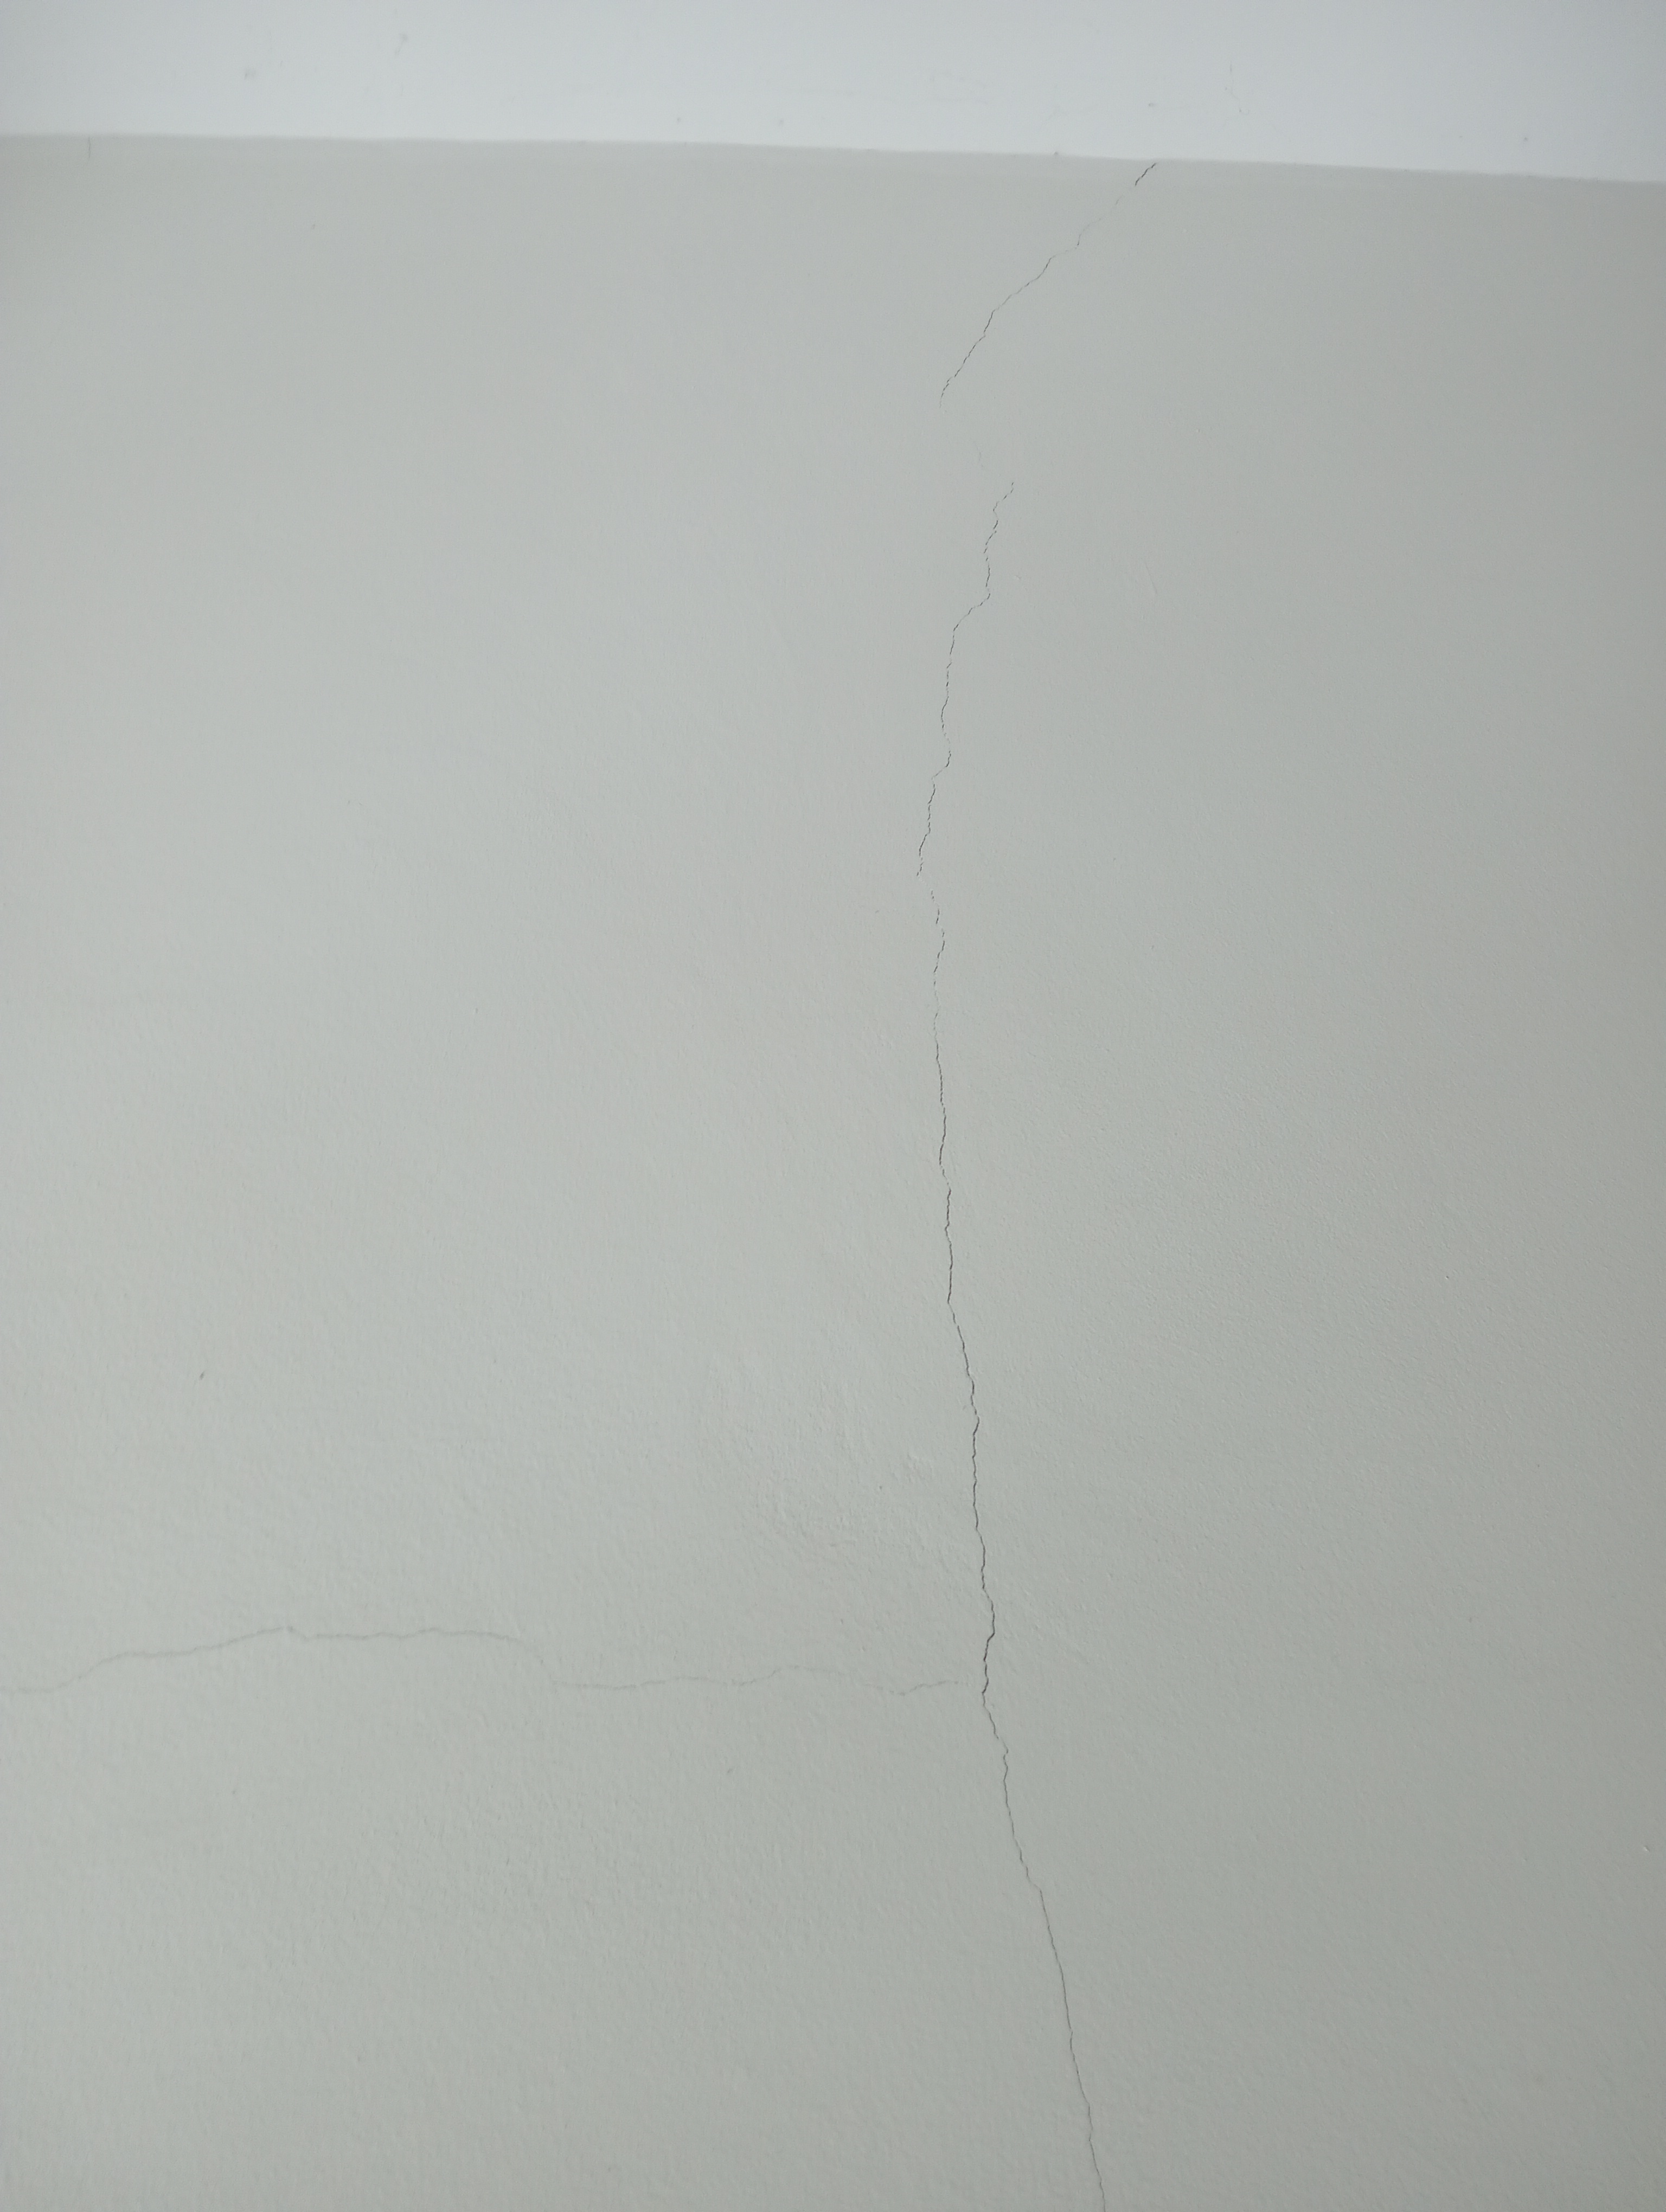Low: (712, 180, 1621, 2212)
